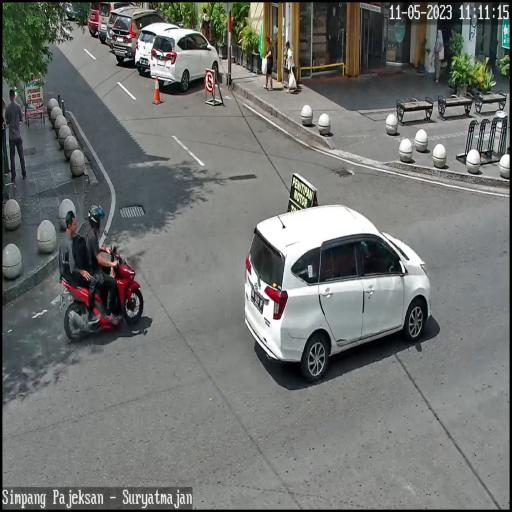mobil: (242, 196, 434, 386), (150, 30, 219, 89), (110, 5, 168, 70), (132, 19, 181, 76)
motor: (54, 232, 146, 344)
